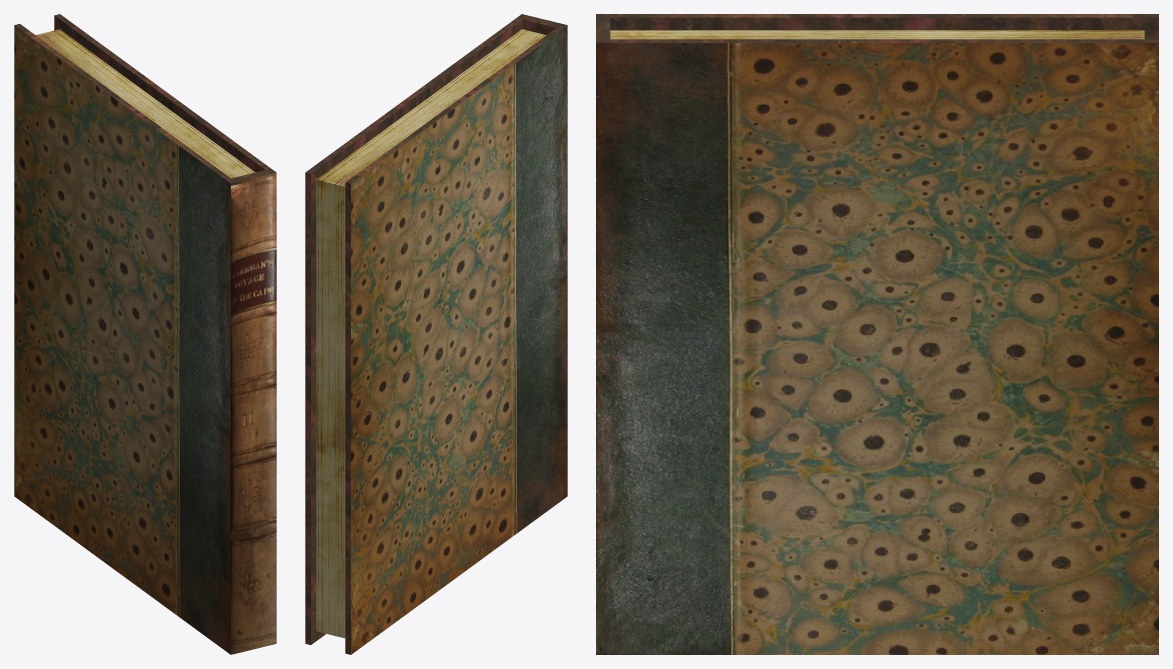
File: Book01_mesh.FBX
3 renders of one model, left to right at view 1: azimuth 30°, elevation 25°; view 2: azimuth 150°, elevation 25°; view 3: azimuth 270°, elevation 25°, orthographic. The views are drawn at different scales.
Parts seen in each view (by area): view 1: obj0; view 2: obj0; view 3: obj0.
Part boxes in pixels (x1,y1,x2,y2): obj0: (14,14,276,654); obj0: (305,14,567,654); obj0: (596,14,1158,654).
Size of the model in its own units: 1.34 by 13.13 by 10.94.
Materials: 4 (4 with a texture image).
